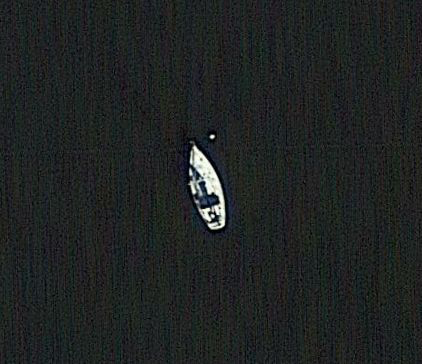boat: (181, 138, 229, 227)
